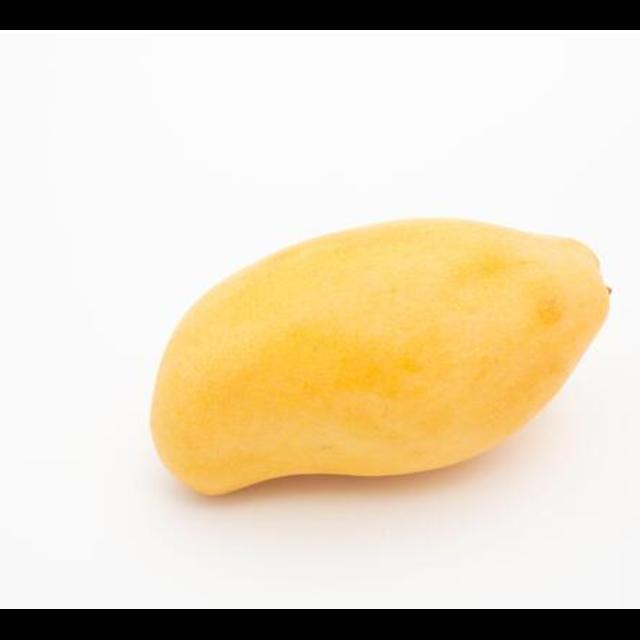mango: (150, 217, 610, 498)
